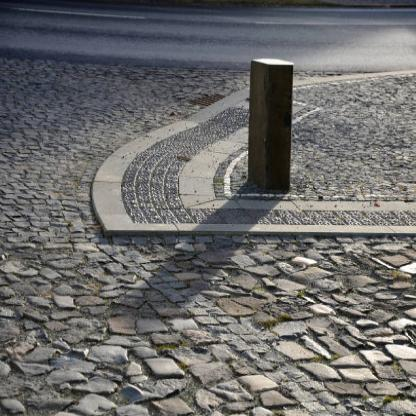podotacti: (82, 77, 416, 257)
